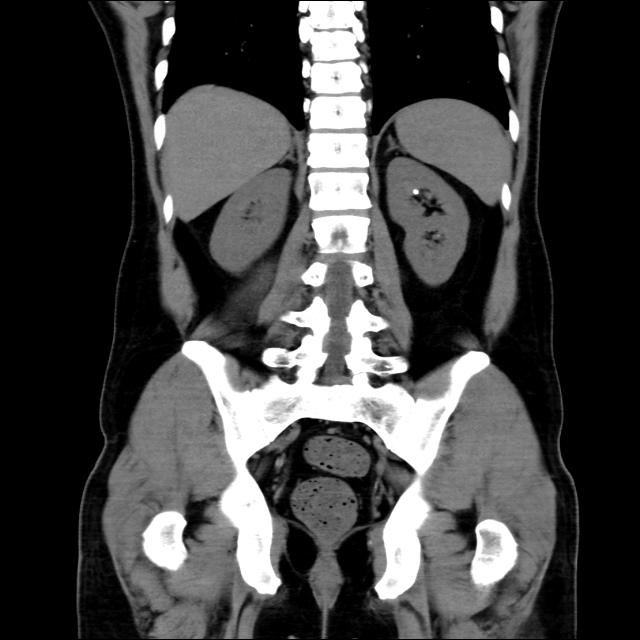kidneystone: (413, 189, 418, 194)
